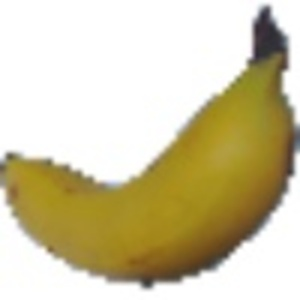banana: (5, 14, 298, 285)
